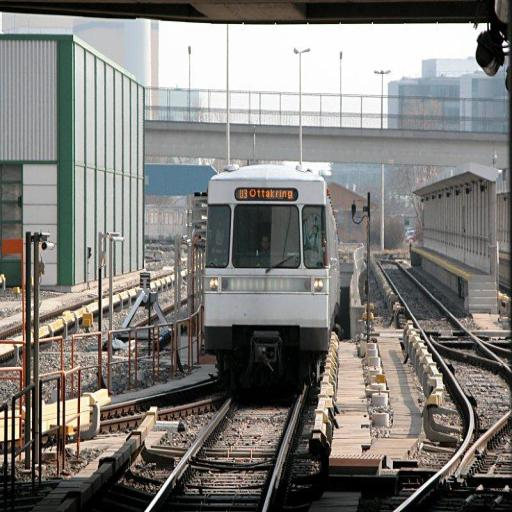Silberpfeil: (205, 164, 341, 347)
